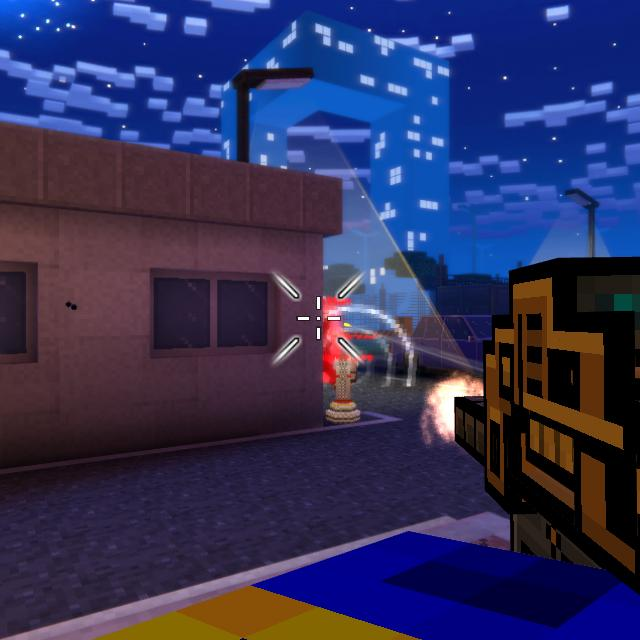Enemy: (325, 316, 337, 381)
